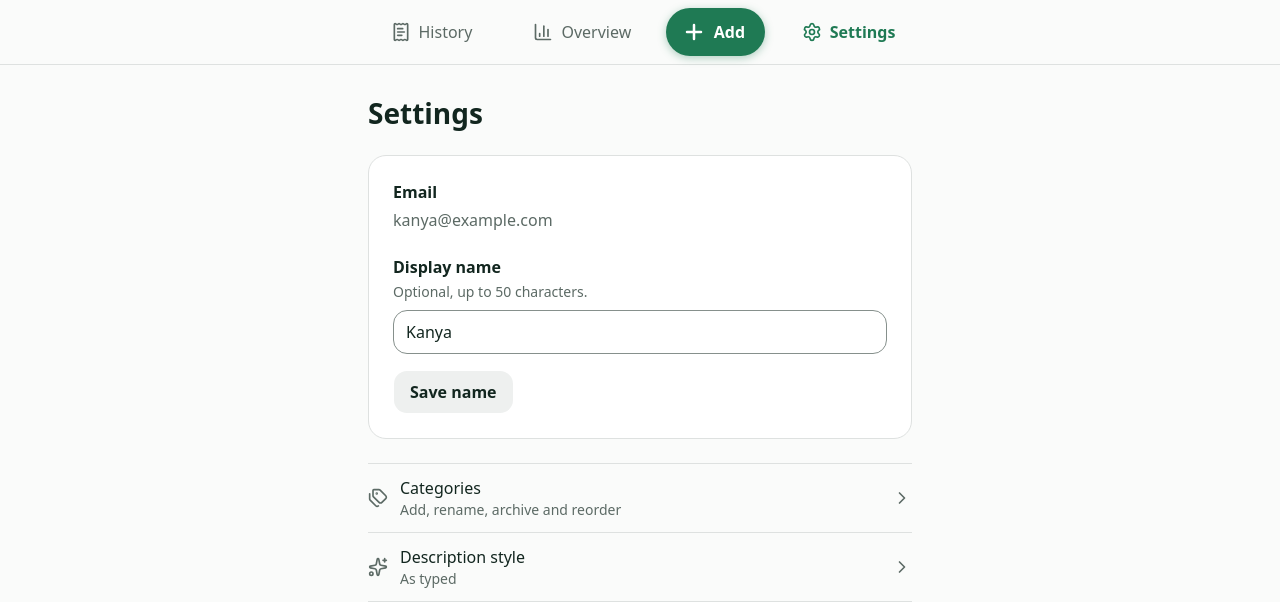
it: Settings › saves the display name
The width and height of the screenshot is (1280, 602).
Step 1. Replace the text in the field labelled "Display name" with "Kan" → (640, 332), box [393,310,887,354]
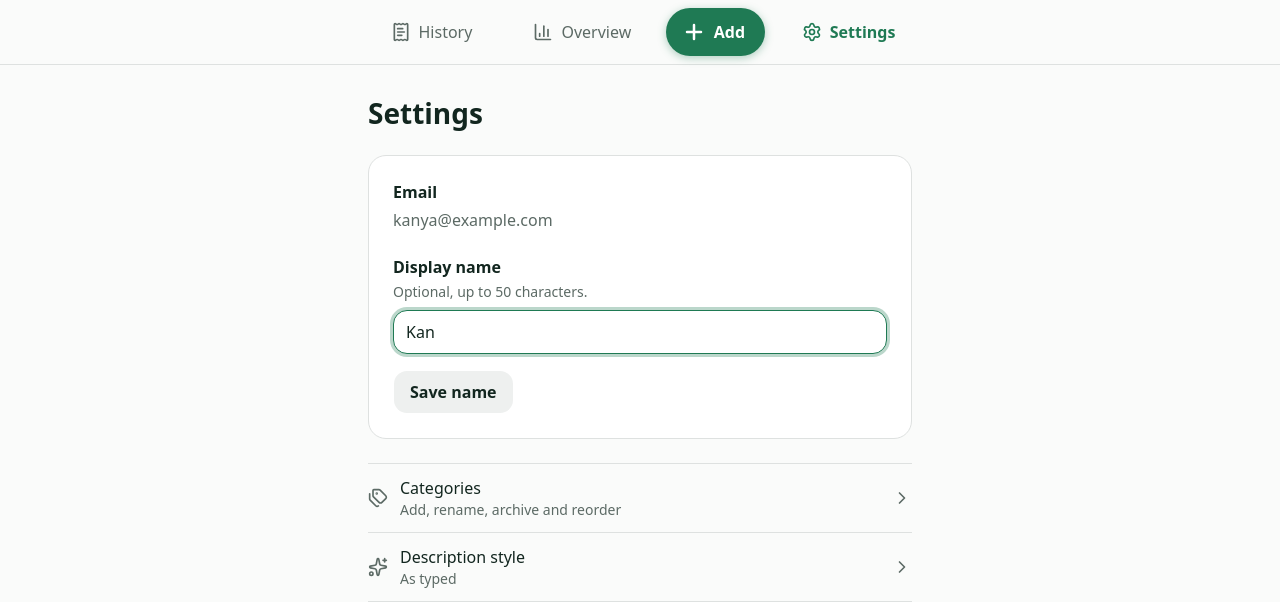
Step 2. Click the button "Save name" → (453, 392), box [393,370,514,414]
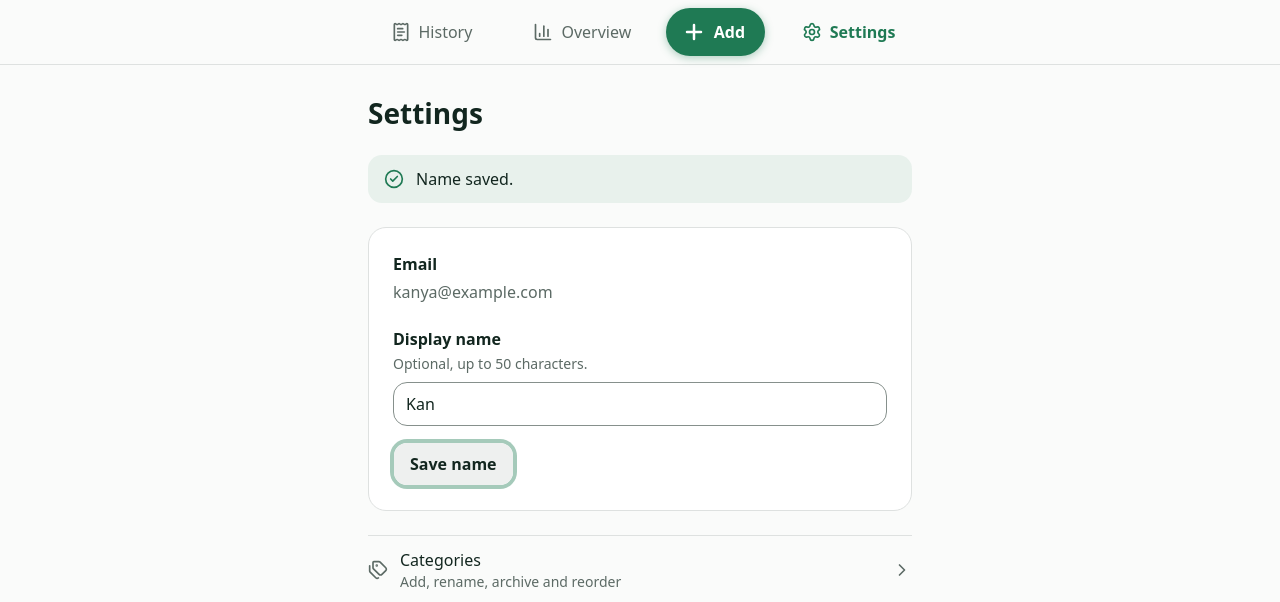
Check: the message reads "Name saved.", box [416,168,513,190]
